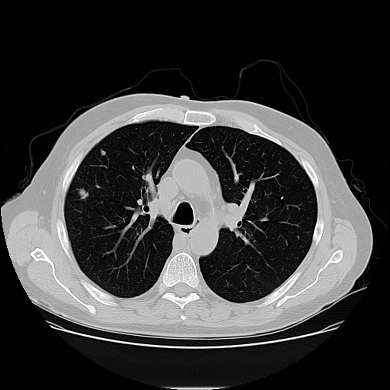nodule: (101, 150, 105, 154)
